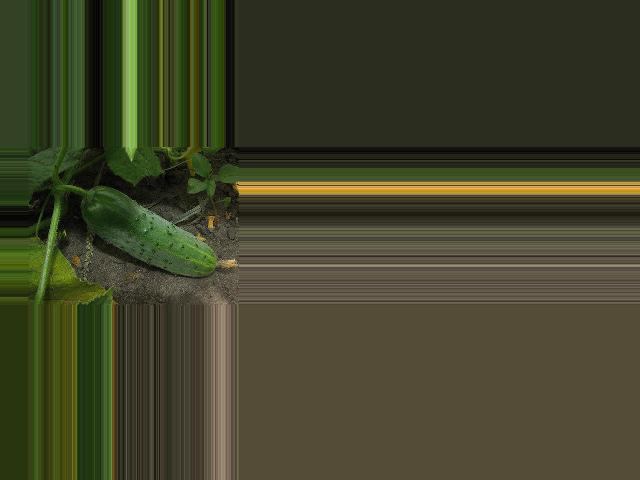cucumber: (81, 186, 238, 278)
